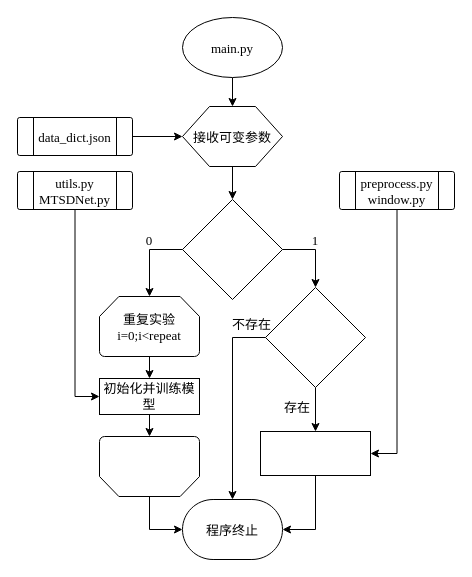
Some shapes in this 472 by 577 pixel diagram are drawn without their labels. The centre of each missing label's shape, as x and y in pixels:
dataset_name: (x=315, y=337)
i=i+1 重复实验: (x=149, y=466)
only_preprocess: (x=232, y=249)
处理dataset_name对应的数据集: (x=315, y=453)
